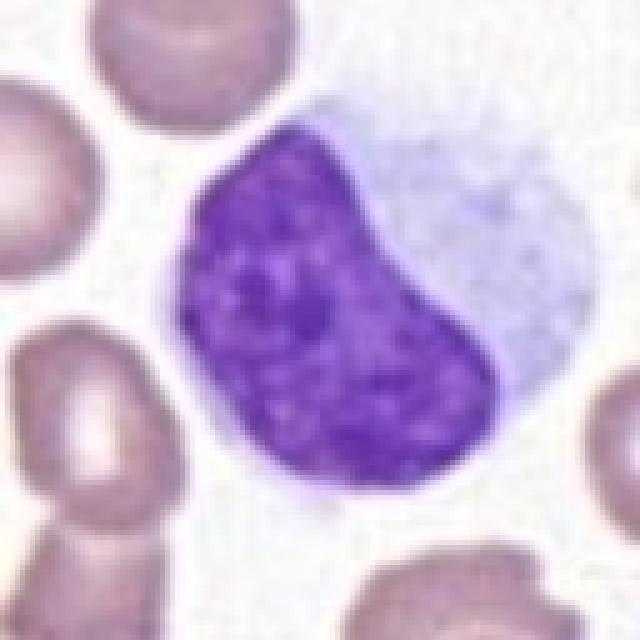lympho: (155, 88, 603, 499)
